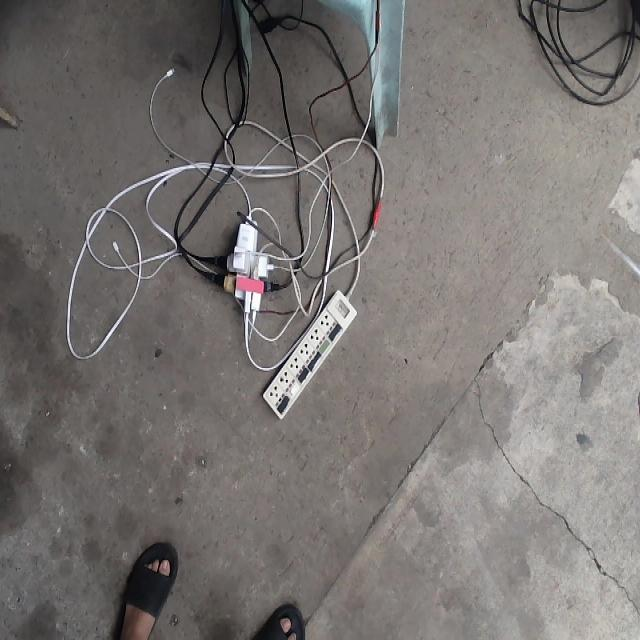-: (200, 198, 288, 346)
